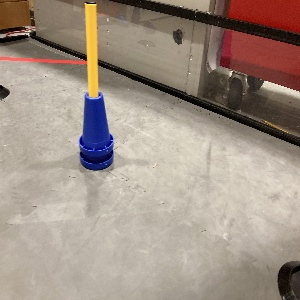Blue_2: (75, 87, 117, 172)
